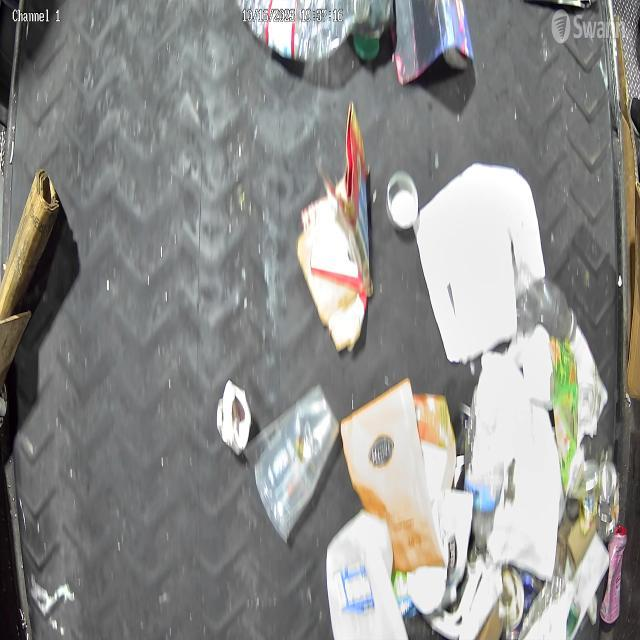can: (217, 381, 253, 456), (596, 459, 620, 544), (580, 456, 602, 533)
milk_jug: (325, 510, 409, 640)
plastic_bottle: (237, 0, 372, 64), (464, 382, 504, 557), (512, 257, 578, 342)
